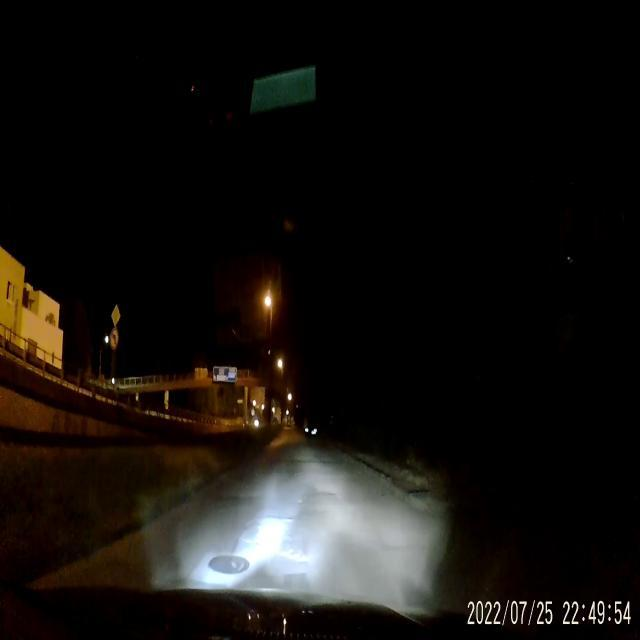Manhole: (204, 552, 250, 578)
